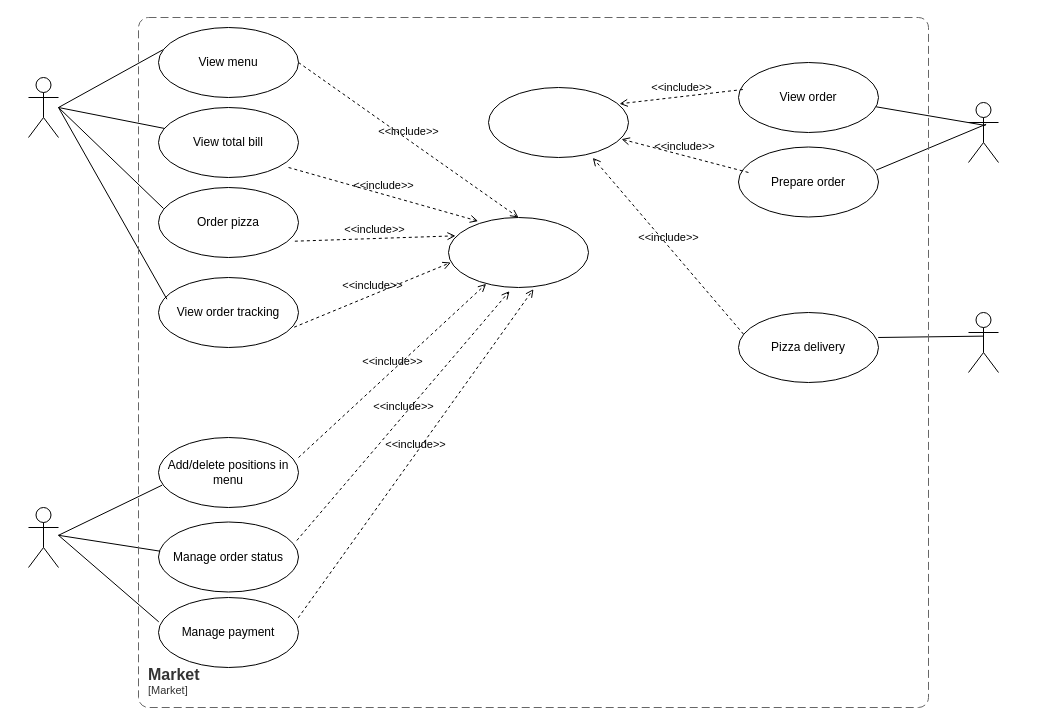
Some shapes in this 1039 by 725 pixel diagram are drawn without their labels. The box of each missing label's shape, as (x1, y1, x2, y2) in pixels:
Admin: (28, 506, 58, 568)
Chef: (968, 102, 998, 162)
Customer: (28, 76, 58, 138)
Delivery driver: (968, 312, 998, 372)
Log in: (448, 216, 588, 288)
Recieve order: (488, 86, 628, 158)
